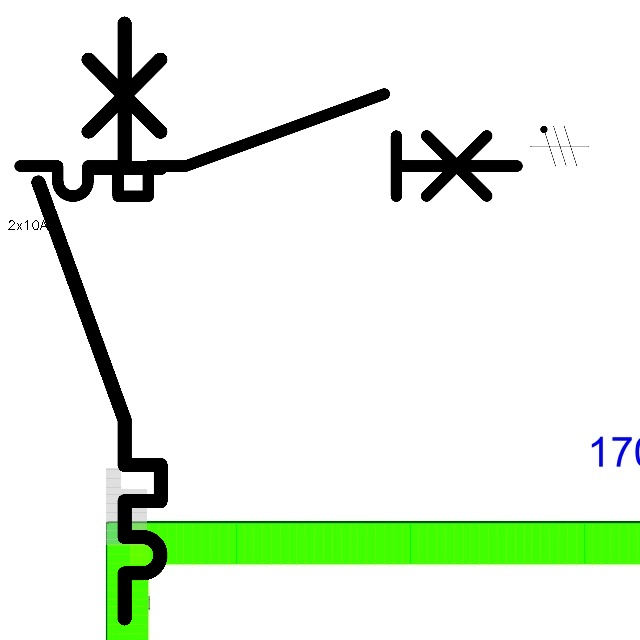interruptor_termomagnetico: (23, 8, 176, 634), (7, 81, 530, 209)
